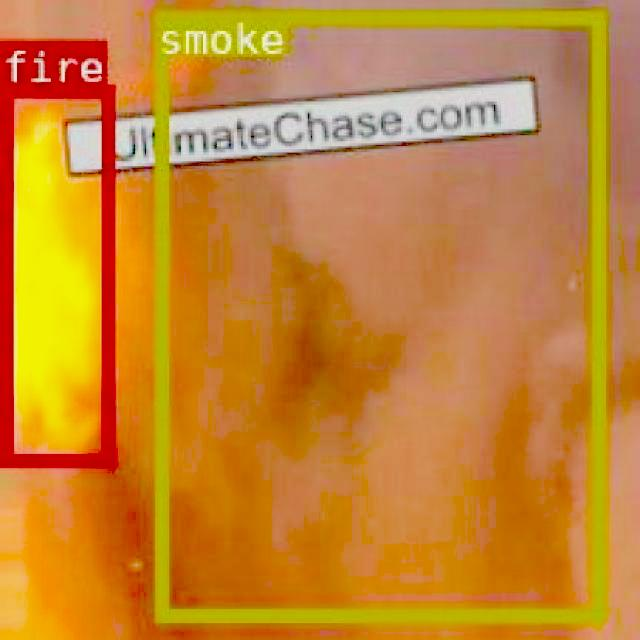fire: (0, 83, 112, 463)
smoke: (155, 10, 602, 619)
